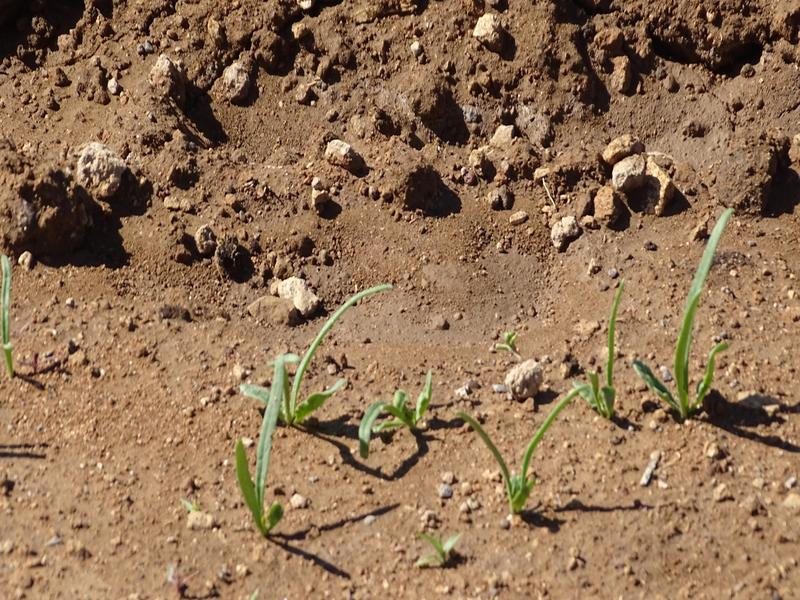Espinaca: (171, 270, 437, 511), (583, 245, 717, 409), (466, 377, 578, 501)
